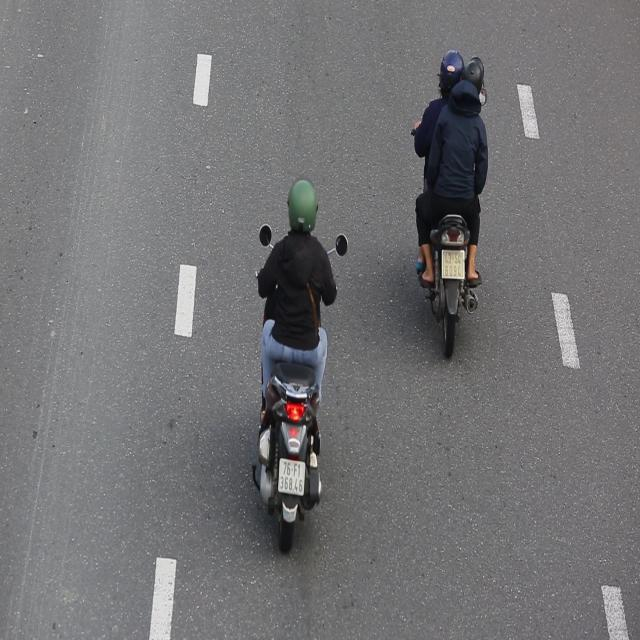motorbike: (248, 176, 353, 562), (411, 40, 490, 358)
